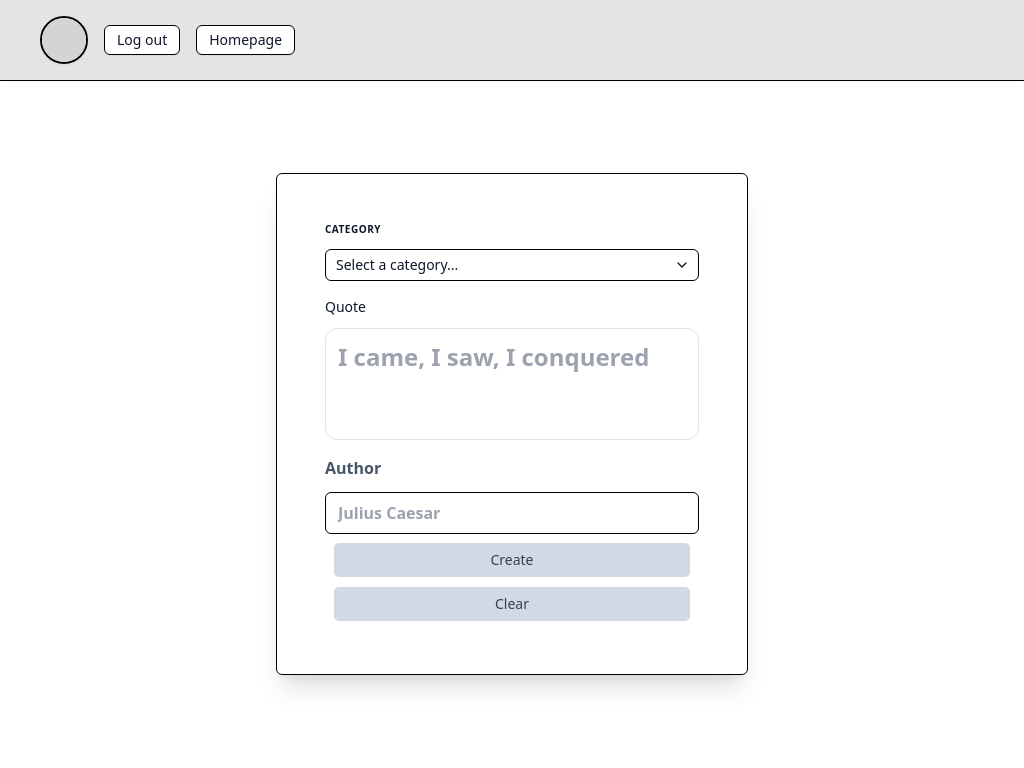
Scenario: AddNewQuotePage › starts empty and keeps the author, quote, and category that are filled in
The width and height of the screenshot is (1024, 768).
expect the text box labelled "Quote" is empty: met, box [325, 328, 699, 440]
expect the dropdown labelled "category" reads "Select a category...": met, box [325, 249, 699, 281]
Type "Wilde" into the field labelled "Author" at (512, 513), box [325, 492, 699, 534]
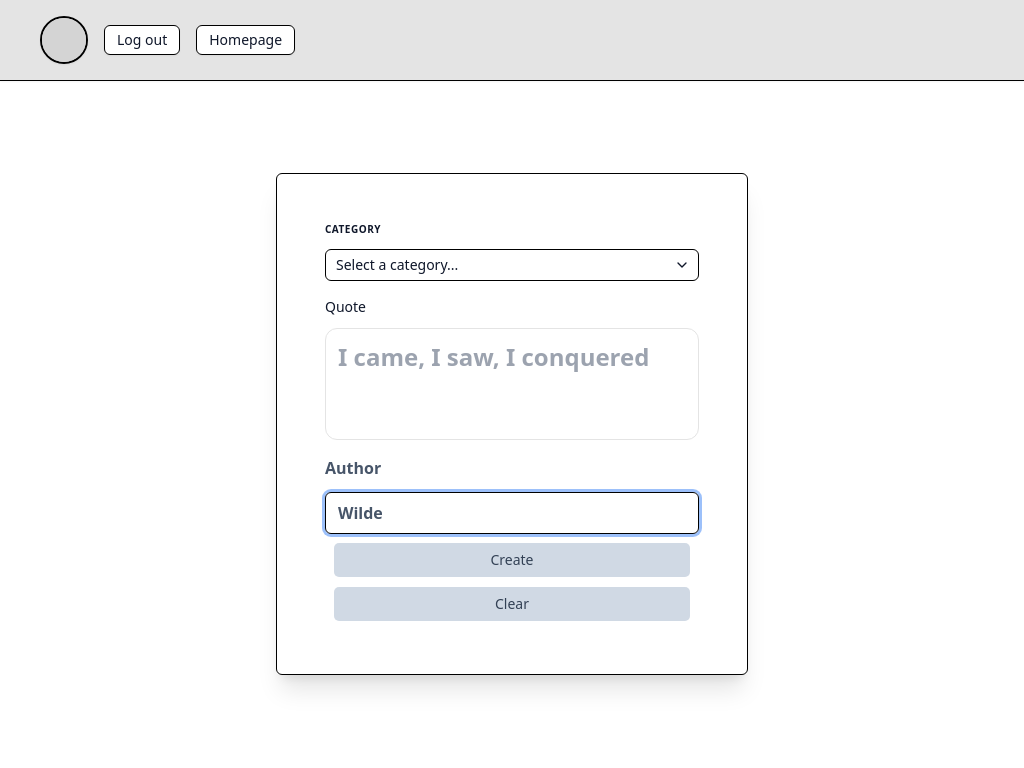
Type "Be yourself" into the text box labelled "Quote" at (512, 384), box [325, 328, 699, 440]
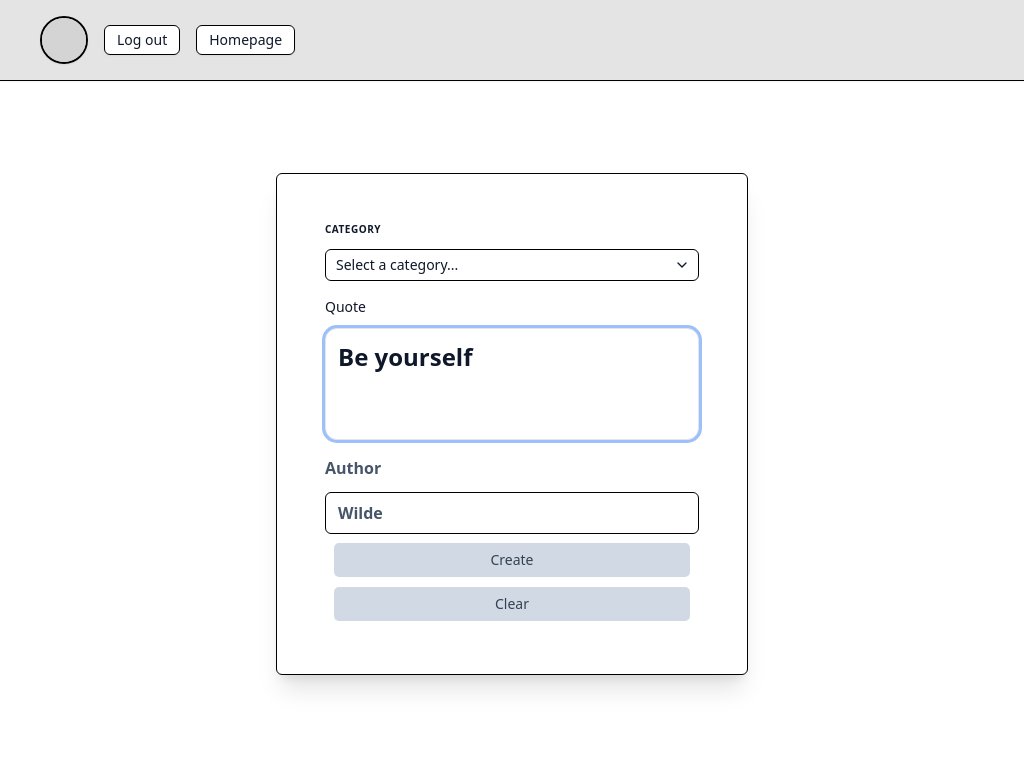
Click the dropdown labelled "category" at (397, 264), box [325, 249, 699, 281]
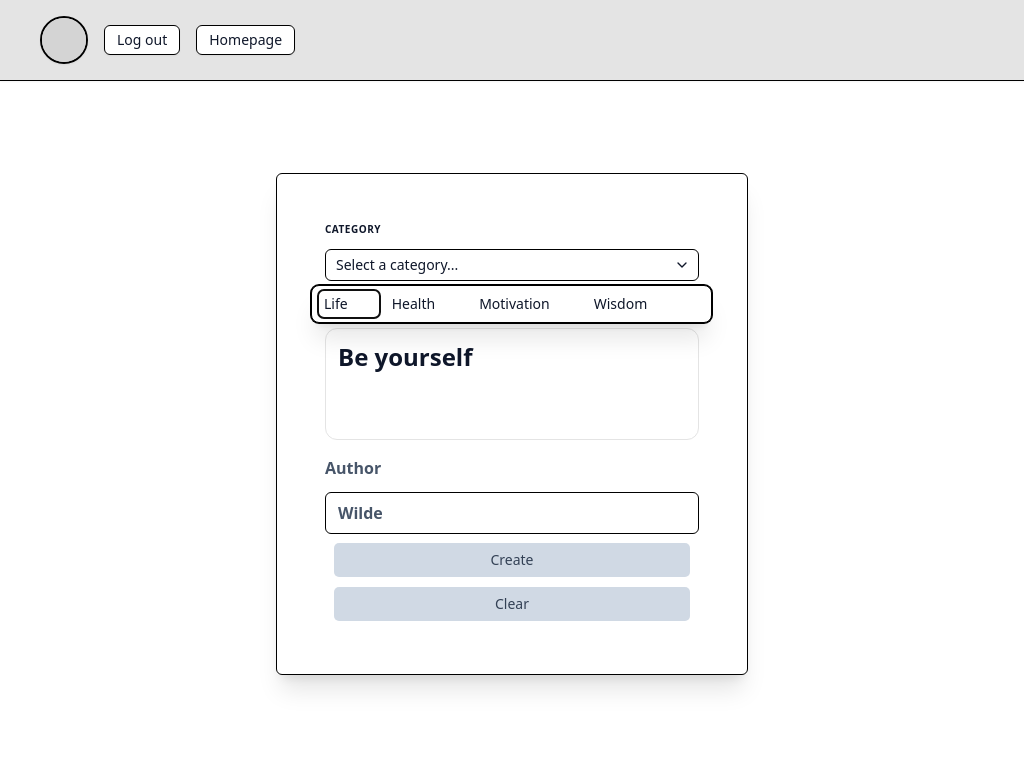
Click the option "Life" at (336, 304), box [324, 294, 348, 313]
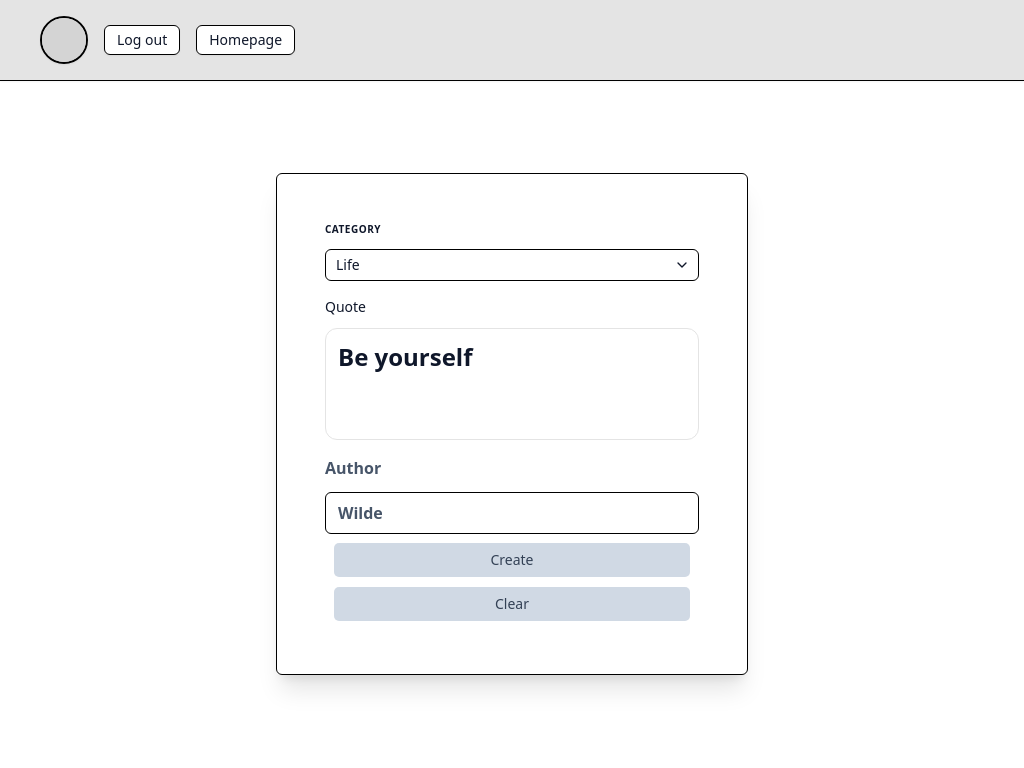
expect the dropdown named "Category" reads "Life": met, box [325, 249, 699, 281]
